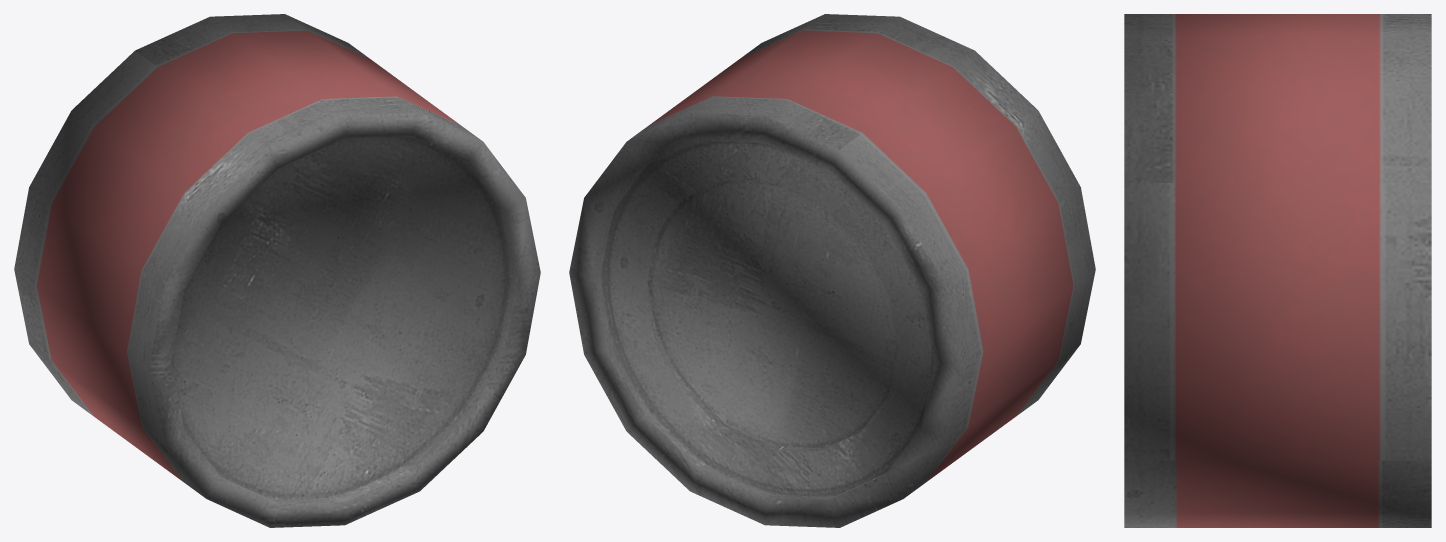
Rendered from canned_tuna.dae.
3 views of the same model, side by side, from view 1: azimuth 30°, elevation 25°; view 2: azimuth 150°, elevation 25°; view 3: azimuth 270°, elevation 25° (orthographic). The views are drawn at different scales.
Visible parts, largest first — view 1: mesh; view 2: mesh; view 3: mesh.
Boxes of the visible parts, x1=… form: mesh: x1=14, y1=14, x2=540, y2=527; mesh: x1=569, y1=14, x2=1095, y2=527; mesh: x1=1124, y1=14, x2=1431, y2=527.
Size of what is drawn, in the model's own units: 0.207 by 0.1237 by 0.207.
1 material, 1 textured.
